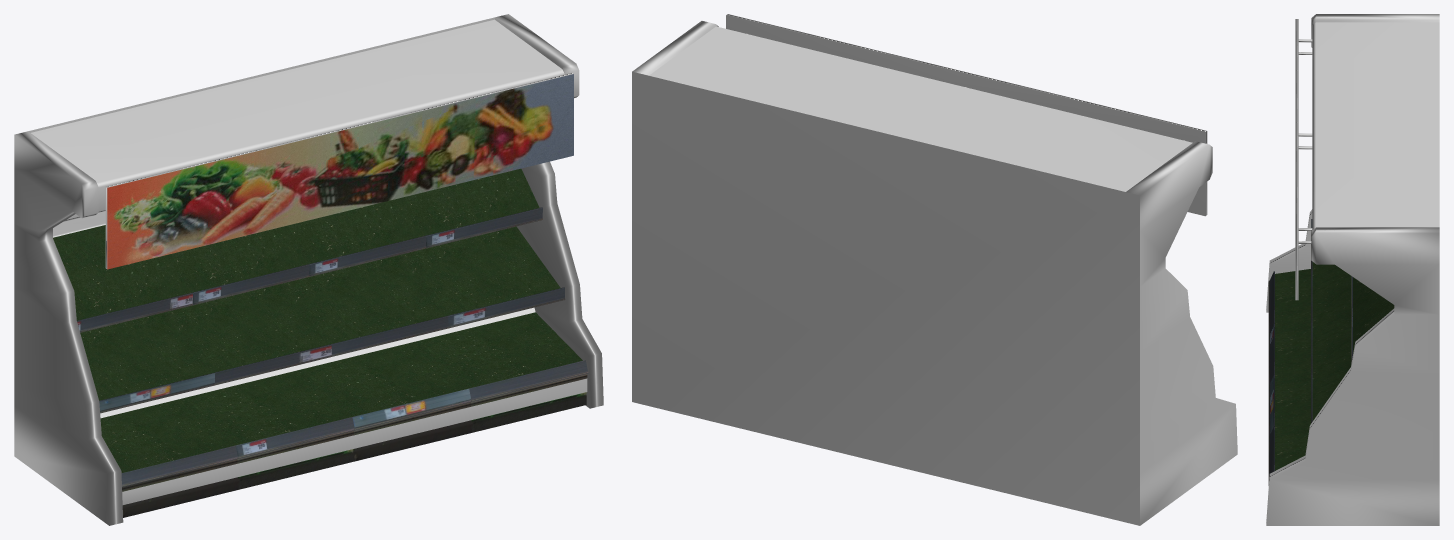
Rendered from obstregal.fbx.
3 views of the same model, side by side, from view 1: azimuth 30°, elevation 25°; view 2: azimuth 150°, elevation 25°; view 3: azimuth 270°, elevation 25° (orthographic). The views are drawn at different scales.
Visible parts, largest first — view 1: obstregal_01; view 2: obstregal_01; view 3: obstregal_01.
Part boxes in pixels (x1,y1,x2,y2): obstregal_01: (14,14,603,525); obstregal_01: (632,14,1237,525); obstregal_01: (1266,14,1439,525).
Size of the model in its own units: 381 by 238 by 127.
